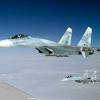maybay_muctieu: (4, 26, 99, 60), (54, 65, 100, 85)
